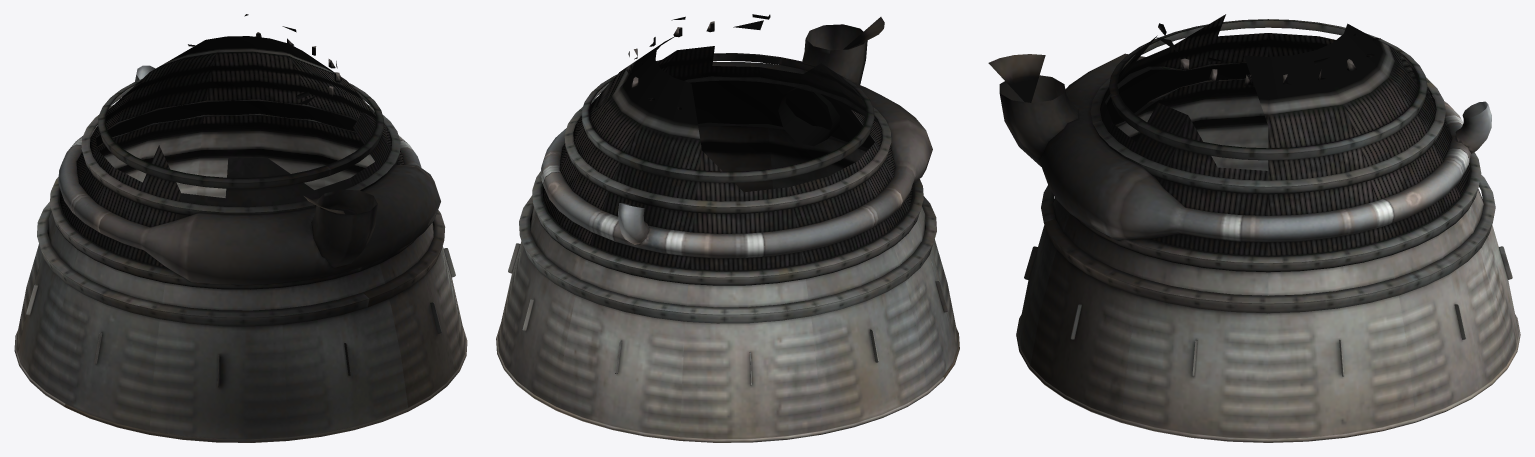
The model's file is Nozzle.fbx.
3 renders of one model, left to right at view 1: azimuth 30°, elevation 25°; view 2: azimuth 150°, elevation 25°; view 3: azimuth 270°, elevation 25°, orthographic. The views are drawn at different scales.
Visible parts, largest first — view 1: Rocket_Engine.005; view 2: Rocket_Engine.005; view 3: Rocket_Engine.005.
Boxes of the visible parts, x1,y1,x2,y2 form: Rocket_Engine.005: (14,14,467,442); Rocket_Engine.005: (496,14,959,442); Rocket_Engine.005: (988,14,1520,442).
Size of the model in its own units: 150 by 107 by 158.
